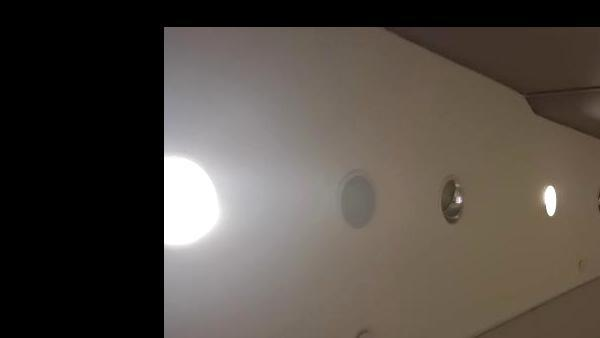light_off: (429, 157, 474, 241), (584, 172, 600, 227)
